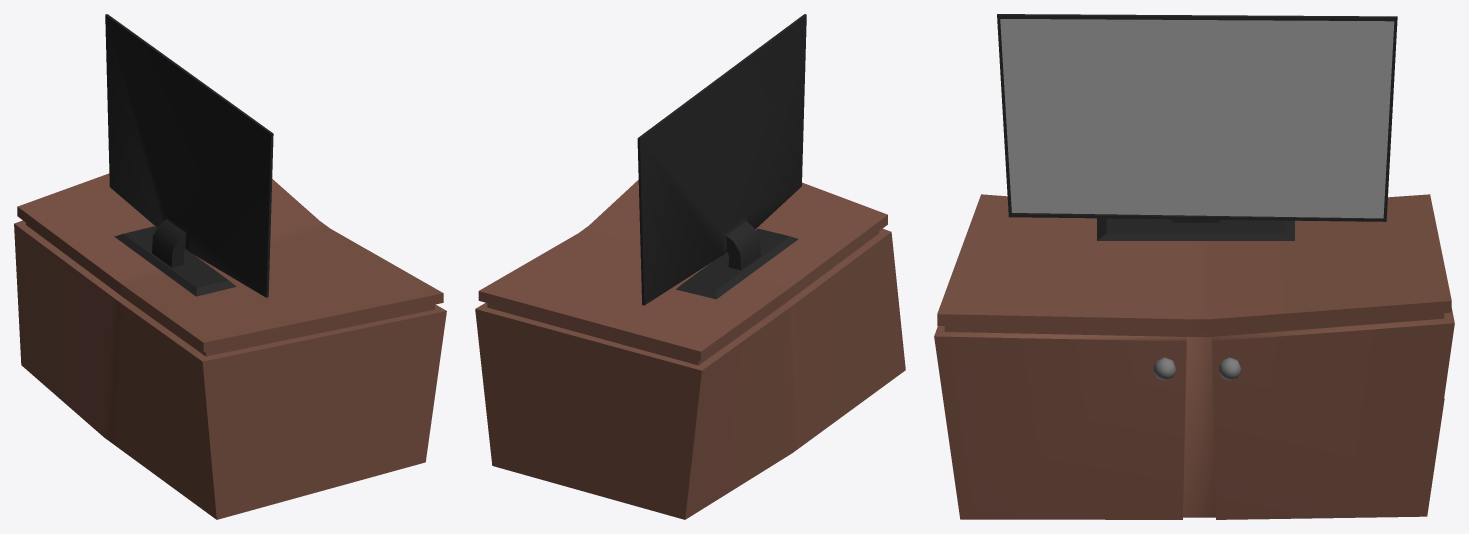
Rendered from MuebleSalonConTele.fbx.
3 views of the same model, side by side, from view 1: azimuth 30°, elevation 25°; view 2: azimuth 150°, elevation 25°; view 3: azimuth 270°, elevation 25° (orthographic). The views are drawn at different scales.
Visible parts, largest first — view 1: Mesita, Tele; view 2: Mesita, Tele; view 3: Mesita, Pantalla, Tele, Pomos1.
Part boxes in pixels (bbox=[...]): Mesita: bbox=[14, 173, 446, 519]; Tele: bbox=[105, 14, 273, 297]; Mesita: bbox=[475, 180, 905, 519]; Tele: bbox=[637, 14, 806, 305]; Mesita: bbox=[934, 194, 1454, 519]; Pantalla: bbox=[1000, 19, 1394, 218]; Tele: bbox=[997, 14, 1397, 240]; Pomos1: bbox=[1153, 357, 1241, 380].
Bounding box in the file's own units: 63.33 × 91.63 × 102.
